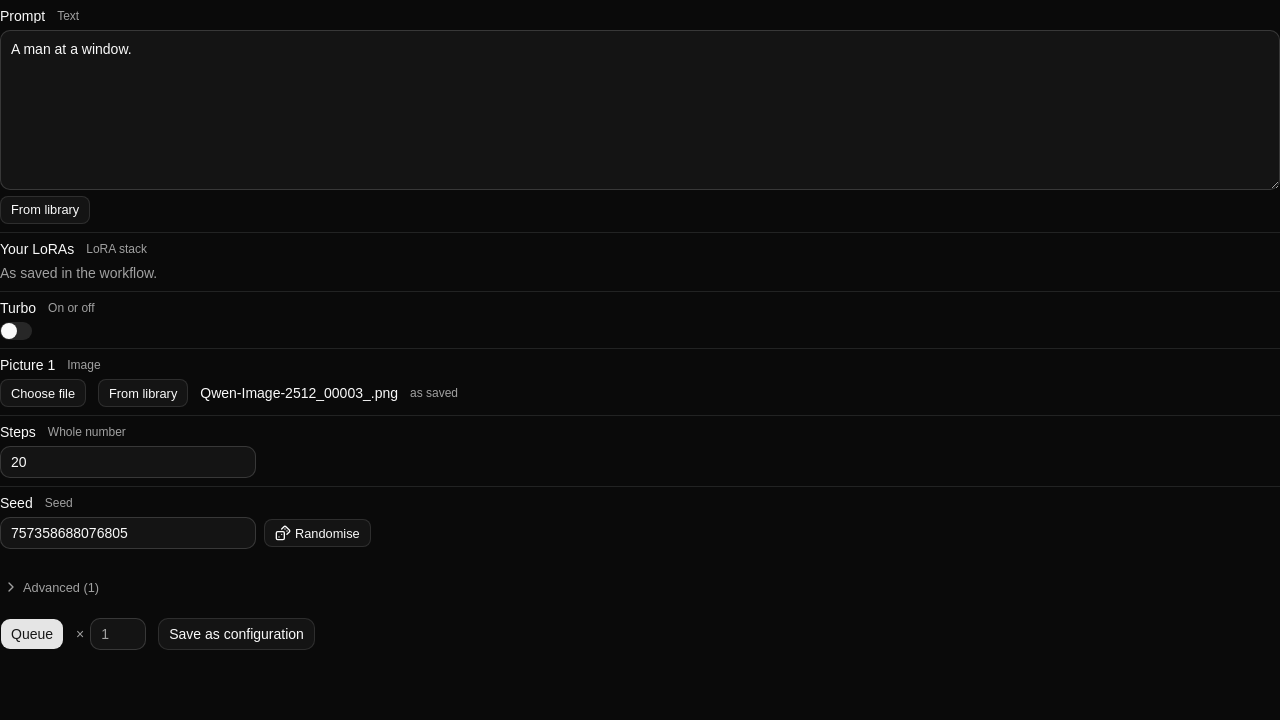
Test: RunForm › saves the form's values under the name given
Replace the text in the text box labelled "Prompt" with "She turns." at (640, 110), box x1=0 y1=30 x2=1279 y2=190
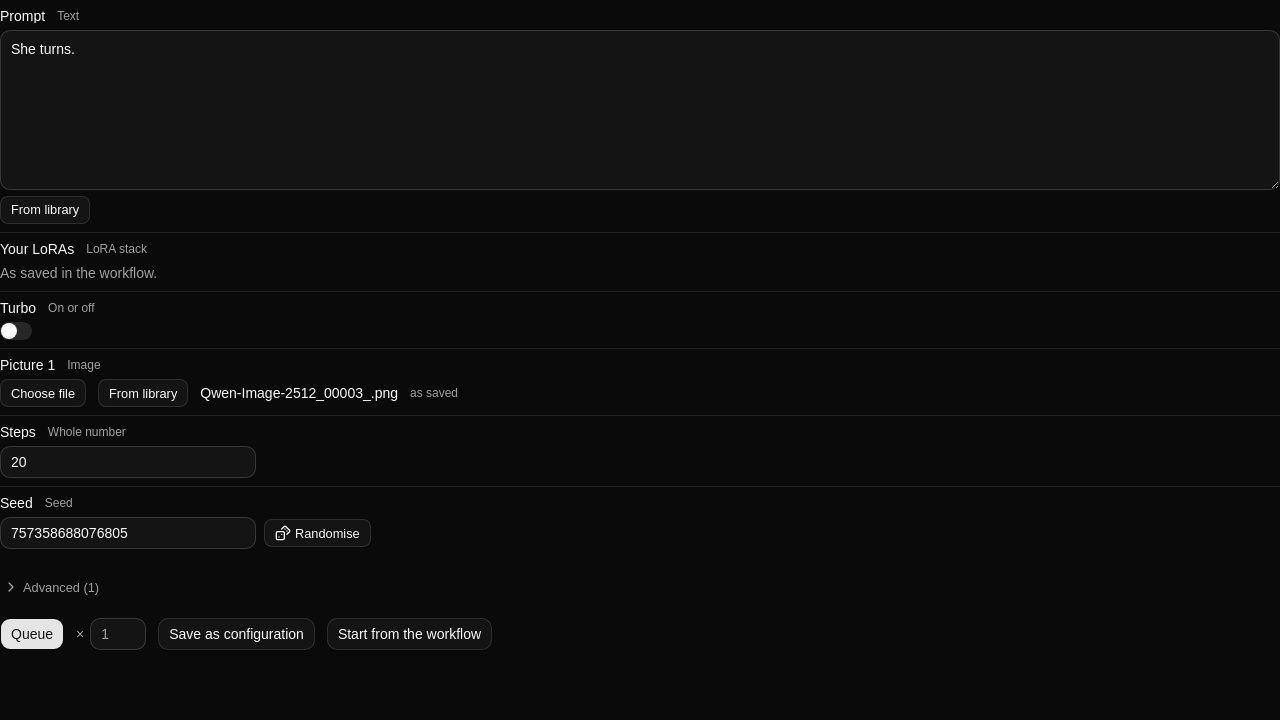
Click the button "Save as configuration" at (236, 634), box x1=158 y1=618 x2=315 y2=650
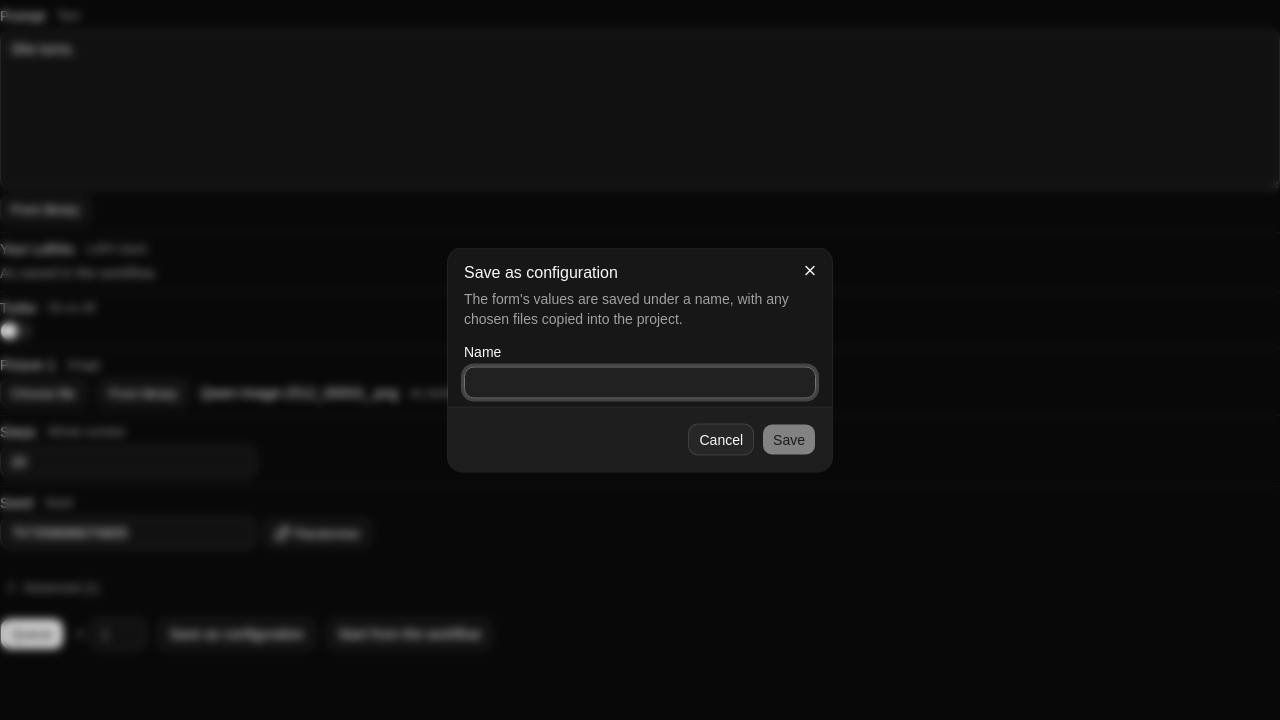
Expected: the button "Save" is disabled, x1=762 y1=424 x2=816 y2=456
Type " Anna " into the field labelled "Name" at (640, 382), box x1=464 y1=366 x2=816 y2=398
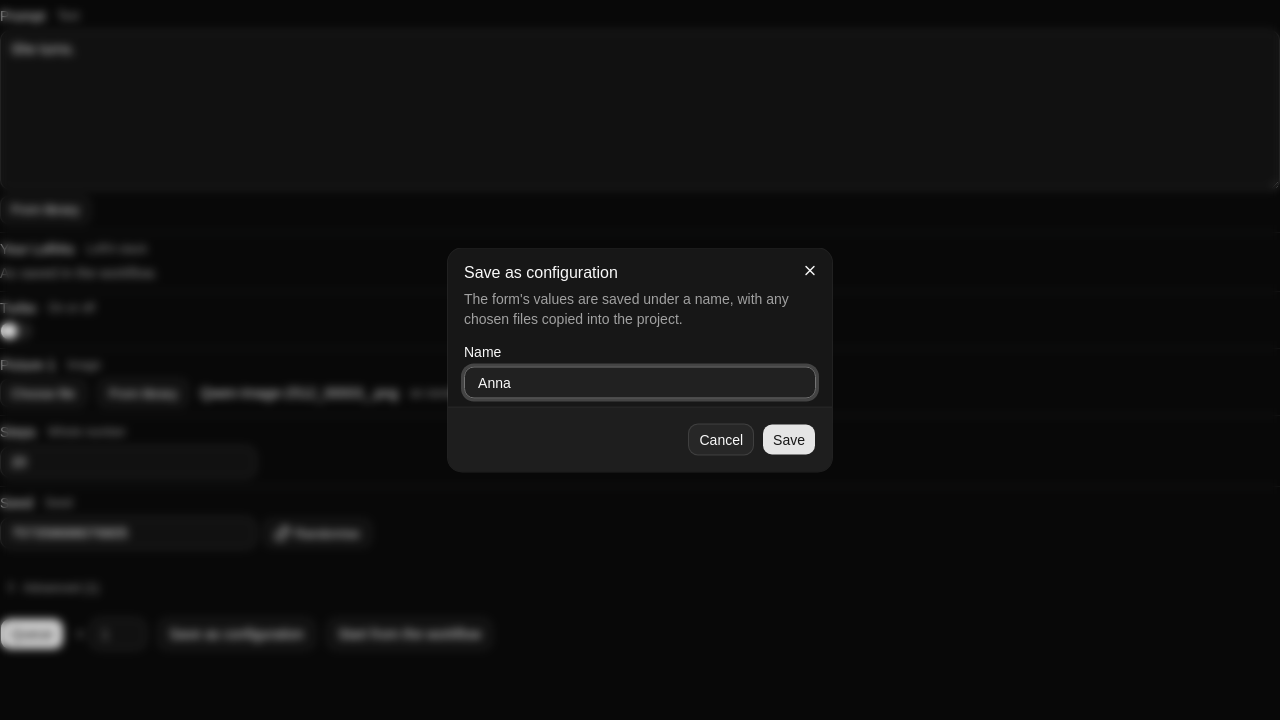
Click the button "Save" at (789, 440), box x1=762 y1=424 x2=816 y2=456
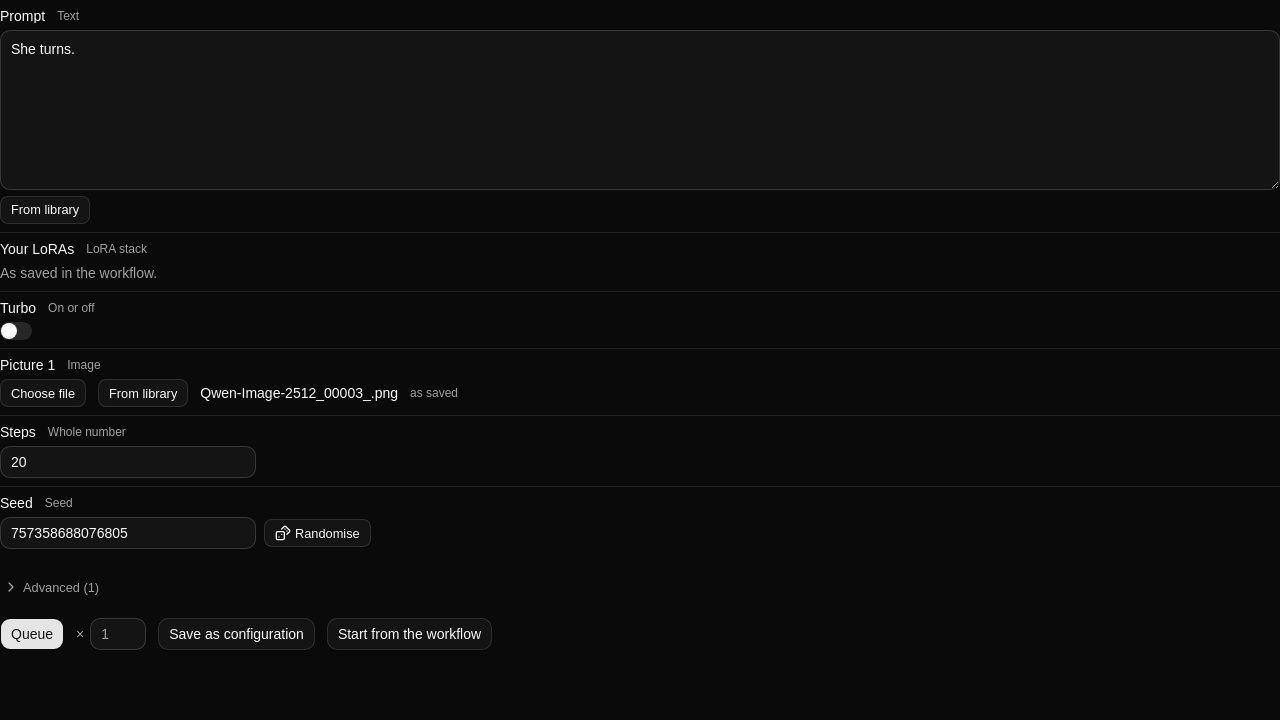
Expected: the dialog is gone
